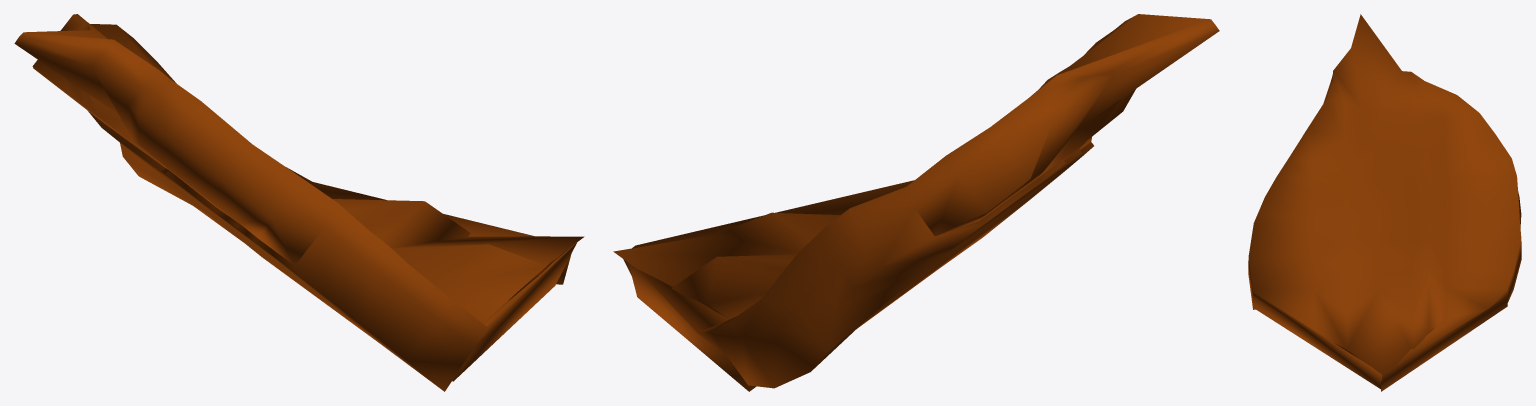
Rendered from Sunward_Bullet.gltf.
3 views of the same model, side by side, from view 1: azimuth 30°, elevation 25°; view 2: azimuth 150°, elevation 25°; view 3: azimuth 270°, elevation 25° (orthographic). The views are drawn at different scales.
Visible parts, largest first — view 1: 平面; view 2: 平面; view 3: 平面.
Boxes of the visible parts, x1,y1,x2,y2 form: 平面: [14, 14, 584, 391]; 平面: [613, 14, 1219, 391]; 平面: [1248, 14, 1521, 391].
Bounding box in the file's own units: 1.31 × 0.8562 × 0.9412.
